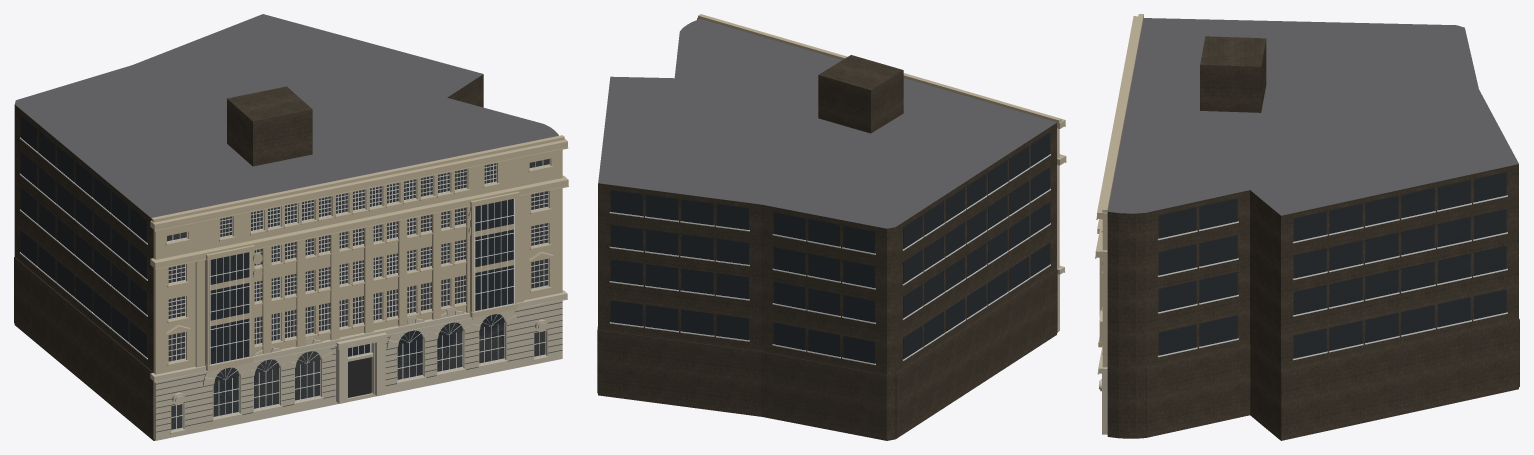
Rendered from inst_barclay_hero.glb.
3 views of the same model, side by side, from view 1: azimuth 30°, elevation 25°; view 2: azimuth 150°, elevation 25°; view 3: azimuth 270°, elevation 25° (orthographic). The views are drawn at different scales.
Parts seen in each view (by area): view 1: HERO_body, HERO_front_terracotta, HERO_front_stone_base, HERO_side_block_base.004, HERO_roof_tower, HERO_cornice.002, HERO_glass.089, HERO_glass.090, HERO_cornice.001, HERO_parapet, HERO_cornice, HERO_glass.005 (+18 smaller); view 2: HERO_body, HERO_side_block_base.002, HERO_side_block_base.004, HERO_side_block_base.003, HERO_roof_tower, HERO_parapet, HERO_side_glass.038, HERO_side_glass.034, HERO_side_glass.046, HERO_side_glass.032, HERO_side_glass.035, HERO_side_glass.036 (+50 smaller); view 3: HERO_body, HERO_side_block_base.001, HERO_side_block_base, HERO_roof_tower, HERO_parapet, HERO_cornice.002, HERO_side_glass.004, HERO_side_glass.005, HERO_side_glass, HERO_side_glass.001, HERO_side_glass.002, HERO_side_glass.003 (+27 smaller).
Boxes of the visible parts, left/top/right/bottom form: HERO_body: left=14, top=14, right=558, bottom=440; HERO_front_terracotta: left=153, top=149, right=562, bottom=374; HERO_front_stone_base: left=153, top=292, right=562, bottom=440; HERO_side_block_base.004: left=14, top=257, right=153, bottom=438; HERO_roof_tower: left=227, top=86, right=312, bottom=166; HERO_cornice.002: left=150, top=139, right=567, bottom=230; HERO_glass.089: left=210, top=252, right=249, bottom=364; HERO_glass.090: left=475, top=199, right=513, bottom=310; HERO_cornice.001: left=150, top=175, right=568, bottom=268; HERO_parapet: left=151, top=135, right=564, bottom=222; HERO_cornice: left=150, top=290, right=567, bottom=381; HERO_glass.005: left=479, top=314, right=504, bottom=363; HERO_body: left=598, top=19, right=1056, bottom=440; HERO_side_block_base.002: left=598, top=330, right=761, bottom=414; HERO_side_block_base.004: left=895, top=269, right=1057, bottom=437; HERO_side_block_base.003: left=761, top=351, right=886, bottom=438; HERO_roof_tower: left=818, top=55, right=903, bottom=133; HERO_parapet: left=698, top=14, right=1061, bottom=122; HERO_side_glass.038: left=681, top=268, right=713, bottom=294; HERO_side_glass.034: left=681, top=309, right=713, bottom=335; HERO_side_glass.046: left=681, top=199, right=713, bottom=225; HERO_side_glass.032: left=610, top=300, right=642, bottom=326; HERO_side_glass.035: left=716, top=314, right=748, bottom=340; HERO_side_glass.036: left=610, top=259, right=642, bottom=285; HERO_body: left=1107, top=18, right=1518, bottom=440; HERO_side_block_base.001: left=1281, top=319, right=1519, bottom=438; HERO_side_block_base: left=1146, top=346, right=1250, bottom=435; HERO_roof_tower: left=1200, top=36, right=1266, bottom=112; HERO_parapet: left=1102, top=14, right=1143, bottom=212; HERO_cornice.002: left=1097, top=16, right=1143, bottom=219; HERO_side_glass.004: left=1158, top=244, right=1196, bottom=275; HERO_side_glass.005: left=1199, top=235, right=1237, bottom=266; HERO_side_glass: left=1158, top=324, right=1196, bottom=355; HERO_side_glass.001: left=1199, top=315, right=1237, bottom=346; HERO_side_glass.002: left=1158, top=280, right=1196, bottom=311; HERO_side_glass.003: left=1199, top=271, right=1237, bottom=303.
Size of the model in its own units: 38.64 by 24.43 by 34.67.
8 materials, 1 textured.
